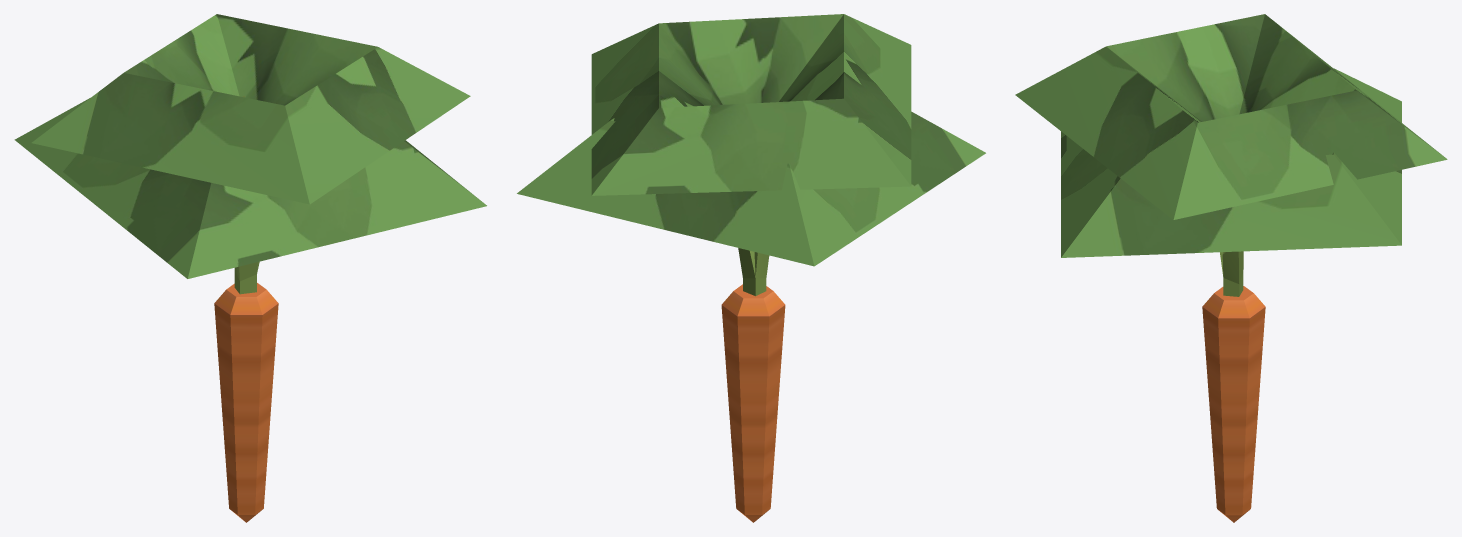
The model's file is carrot001.gltf.
The picture shows the model from 3 angles, left to right: view 1: azimuth 30°, elevation 25°; view 2: azimuth 150°, elevation 25°; view 3: azimuth 270°, elevation 25°; orthographic projection.
Visible parts, largest first — view 1: node_SM_Prop_Carrot_01_L_3_-78674; view 2: node_SM_Prop_Carrot_01_L_3_-78674; view 3: node_SM_Prop_Carrot_01_L_3_-78674.
Part boxes in pixels (box(x1,y1,x2,y2)): node_SM_Prop_Carrot_01_L_3_-78674: box(14, 14, 486, 522); node_SM_Prop_Carrot_01_L_3_-78674: box(517, 14, 985, 522); node_SM_Prop_Carrot_01_L_3_-78674: box(1015, 14, 1447, 522).
Size of what is drawn, in the model's own units: 0.6348 by 0.7507 by 0.6348.
Materials: 2 (2 with a texture image).
